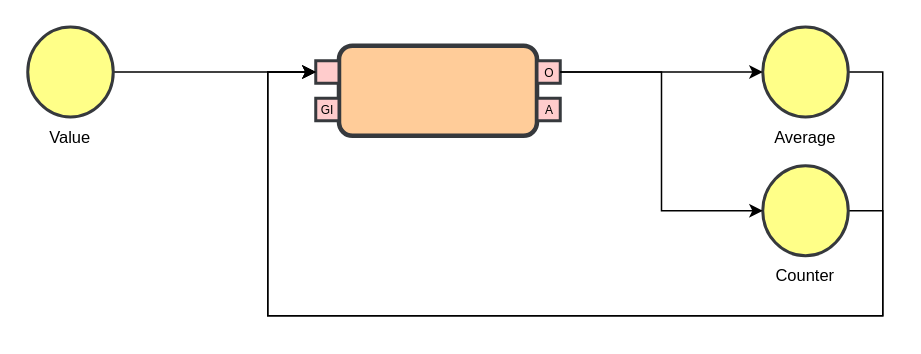
This 921x354 diagram has some shape labels left out. The shapes that lost their labels are listed below. From the top down, each one's centre as x and y in pixels, then its label:
pixel 327 71: LI
pixel 437 90: Average Codelet
